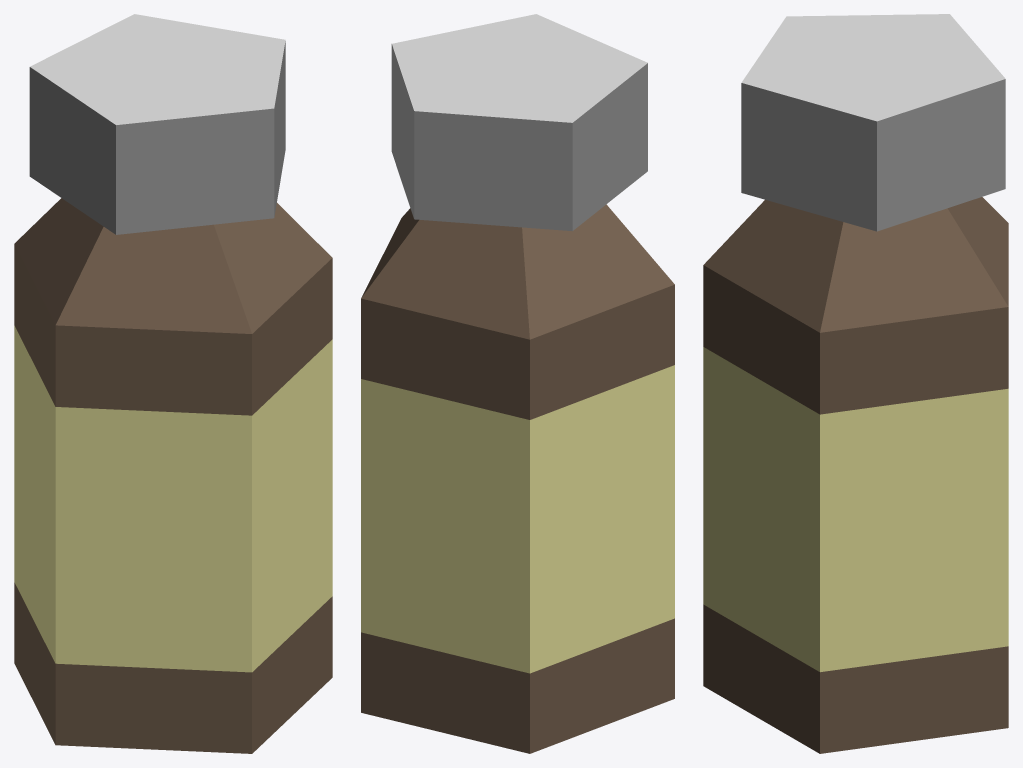
Rendered from TB_D_Prop_Bottle_Small_B.FBX.
3 views of the same model, side by side, from view 1: azimuth 30°, elevation 25°; view 2: azimuth 150°, elevation 25°; view 3: azimuth 270°, elevation 25° (orthographic).
Parts seen in each view (by area): view 1: TB_D_Prop_Bottle_Small_B; view 2: TB_D_Prop_Bottle_Small_B; view 3: TB_D_Prop_Bottle_Small_B.
Boxes of the visible parts, x1=… form: TB_D_Prop_Bottle_Small_B: x1=14, y1=14, x2=332, y2=753; TB_D_Prop_Bottle_Small_B: x1=361, y1=14, x2=674, y2=753; TB_D_Prop_Bottle_Small_B: x1=703, y1=14, x2=1008, y2=753.
Size of the model in its own units: 0.2856 by 0.6123 by 0.2716.
